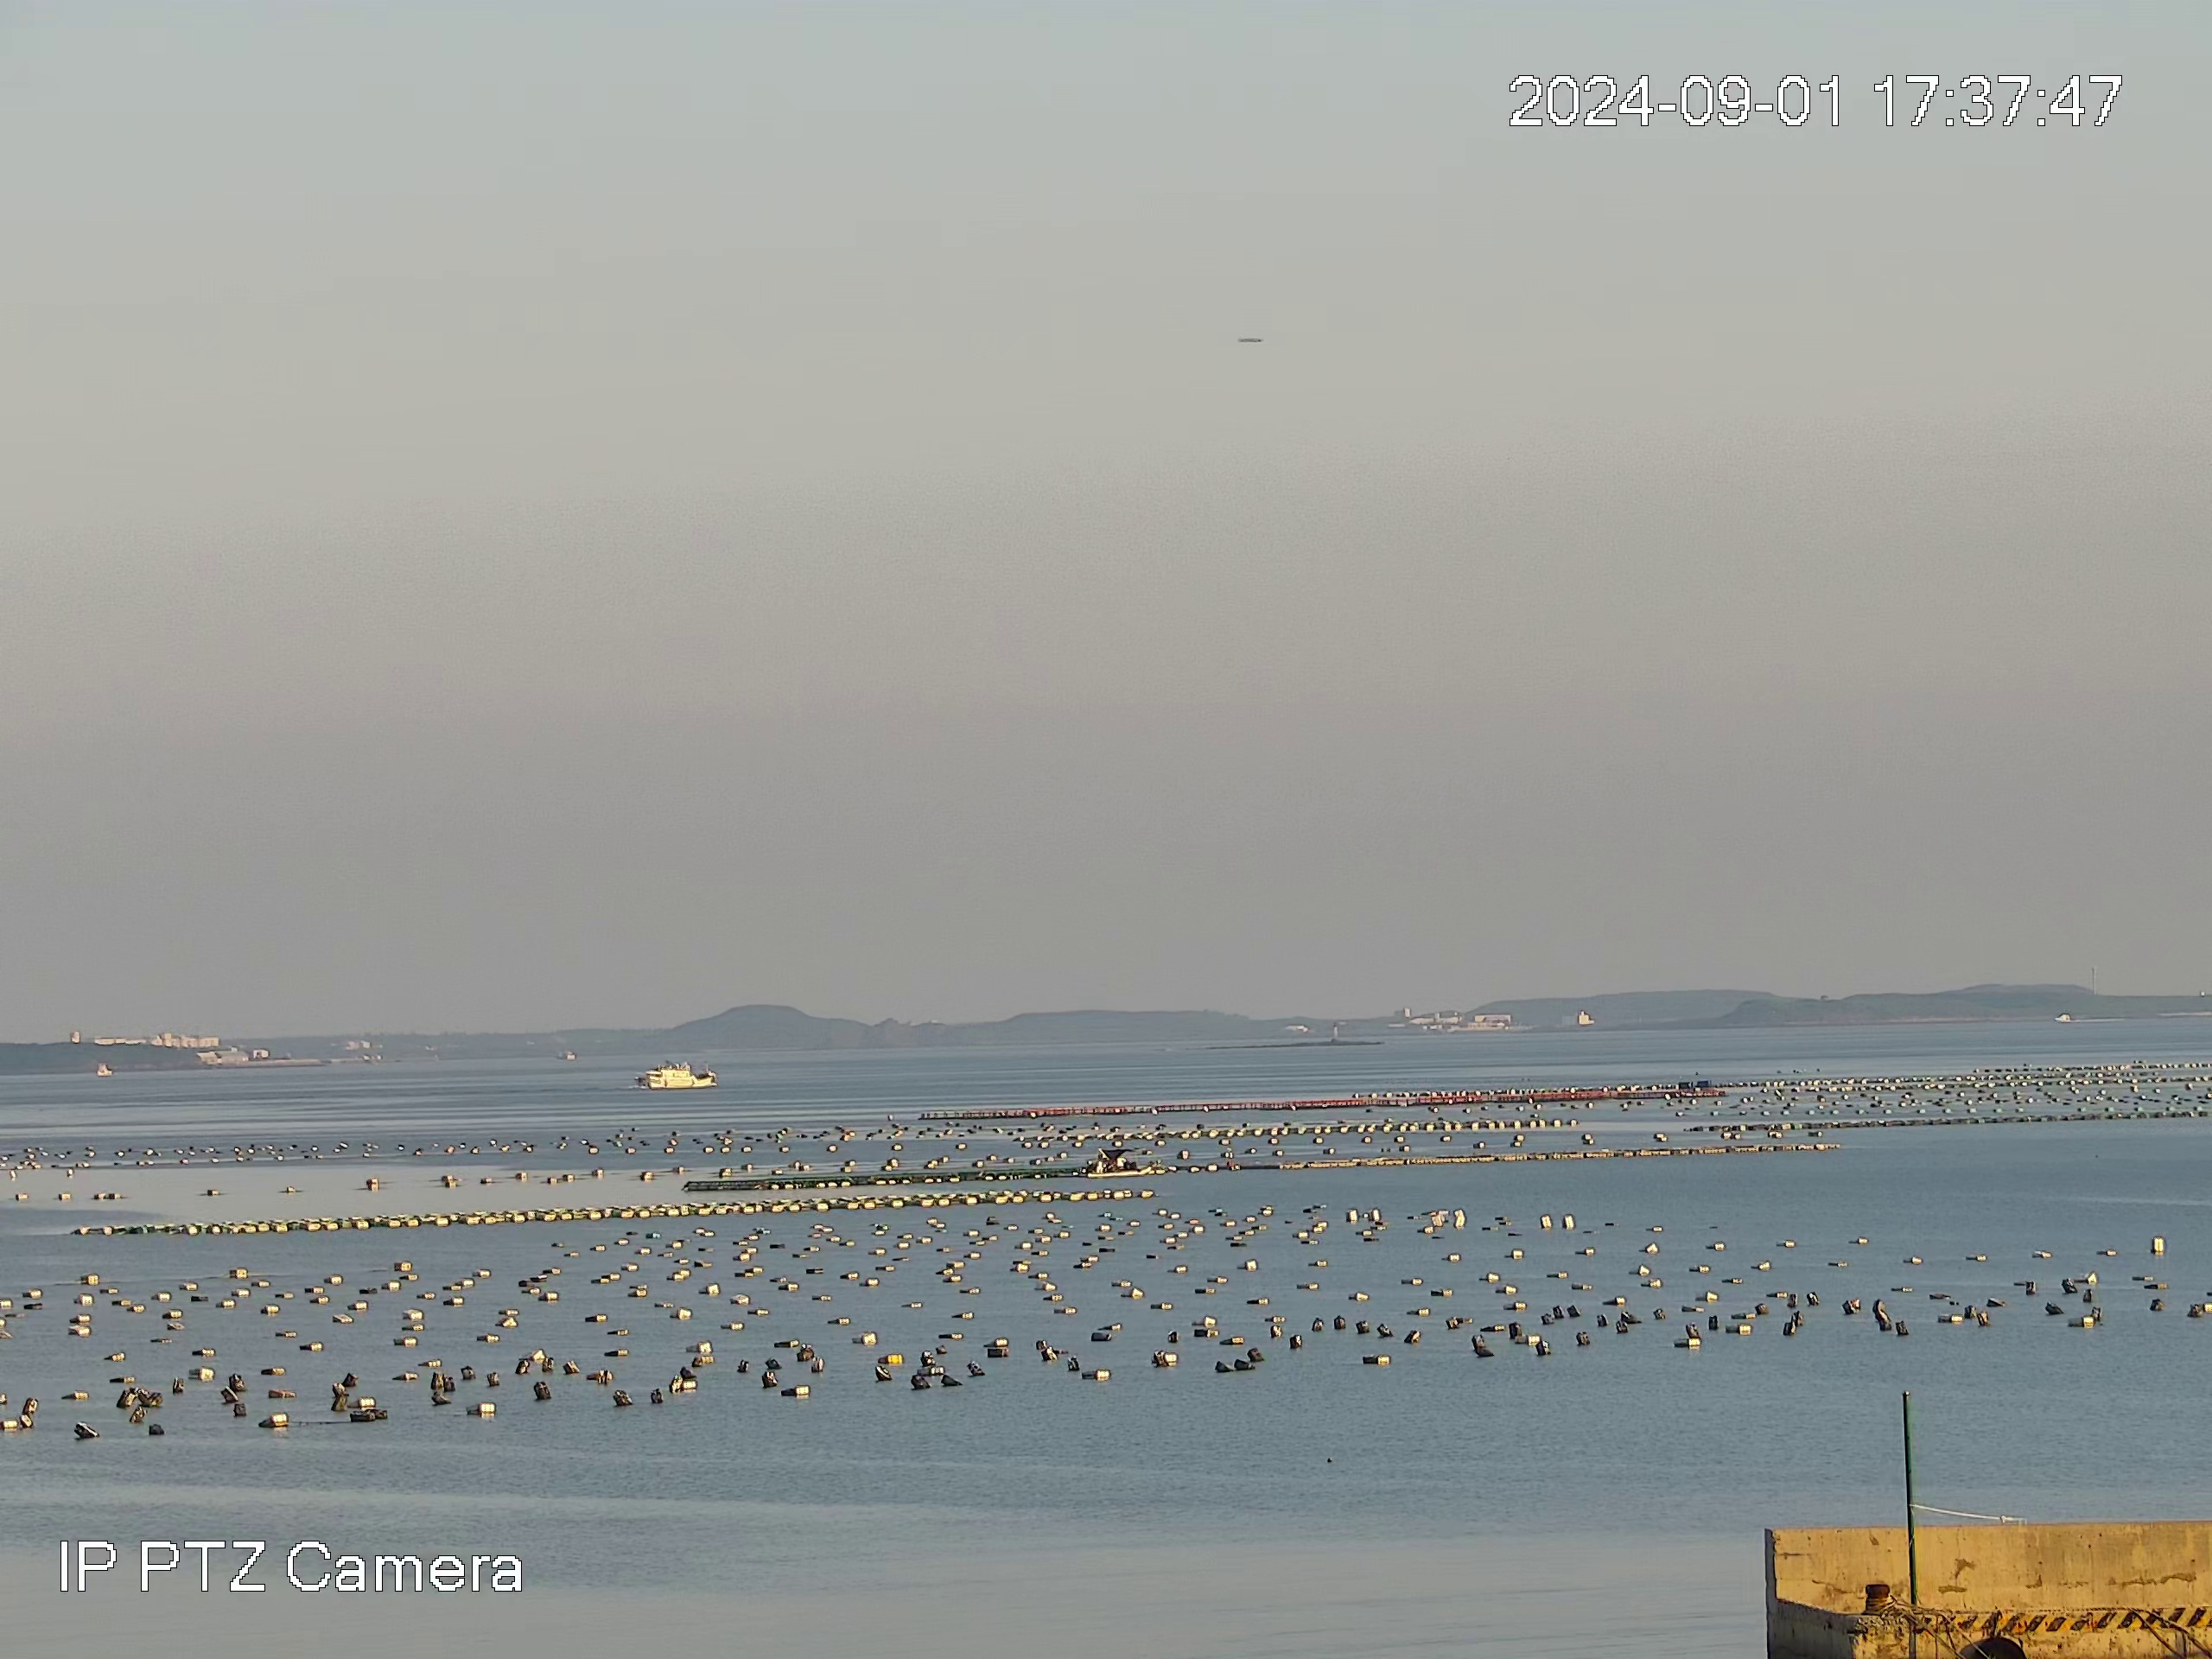boat: (639, 1060, 719, 1091), (1087, 1147, 1157, 1178)
